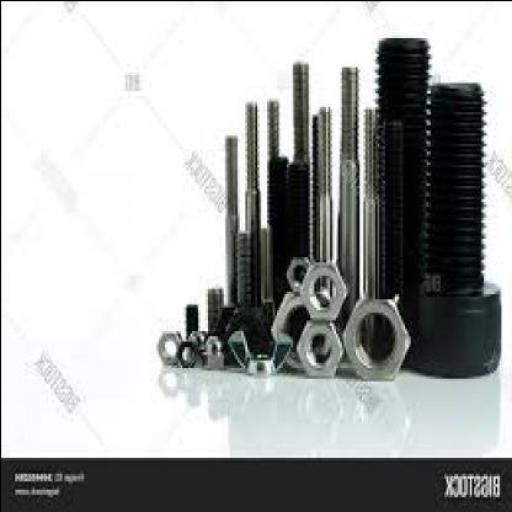metal: (414, 82, 502, 375), (378, 34, 432, 367), (338, 61, 360, 333), (344, 295, 414, 378), (364, 105, 380, 354), (386, 116, 404, 301), (212, 304, 268, 362), (296, 58, 312, 261), (268, 151, 287, 308), (302, 258, 350, 320), (274, 290, 311, 370), (246, 100, 260, 301), (317, 103, 333, 271), (232, 328, 294, 370), (288, 159, 310, 272), (299, 320, 345, 372), (226, 132, 239, 309), (268, 95, 278, 293), (311, 111, 319, 261), (236, 229, 250, 306), (261, 224, 274, 298), (287, 254, 311, 290), (159, 327, 183, 362), (208, 286, 224, 332), (207, 332, 224, 364), (178, 340, 200, 362), (190, 327, 206, 351), (187, 300, 199, 330)
